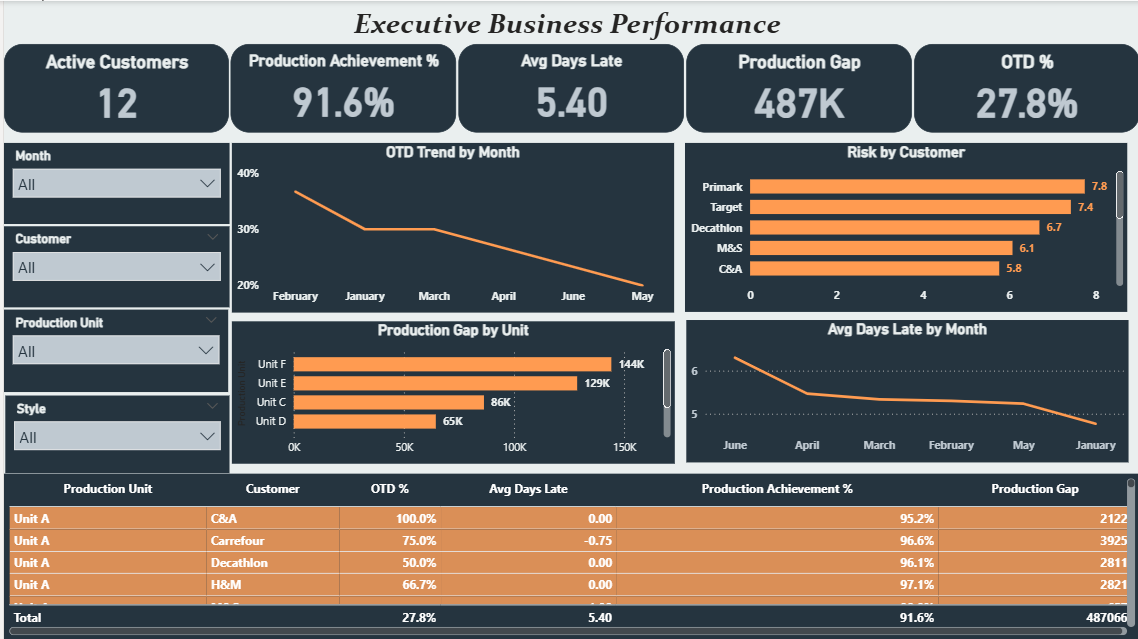

What the dashboard file says about the page in this screenshot:
{"tool":"powerbi","page":{"name":"Risk & Early Warning","canvas":[1280,720],"ordinal":5},"visuals":[{"type":"textbox","box":[248.7,0,781.3,51.7],"z":0},{"type":"card","title":"Active Customers","fields":{"Values":["Measurs.Active Customers"]},"box":[0,48,253.7,99.7],"z":1000},{"type":"card","title":"Production Achievement %","fields":{"Values":["Measurs.Production Achievement %"]},"box":[256,47.9,254,100],"z":2000},{"type":"card","title":"Avg Days Late","fields":{"Values":["Measurs.Avg Days Late"]},"box":[512.4,47.9,254,100],"z":3000},{"type":"card","title":"Production Gap","fields":{"Values":["Measurs.Production Gap"]},"box":[768.7,47.9,254,100],"z":4000},{"type":"card","title":"OTD %","fields":{"Values":["Measurs.OTD %"]},"box":[1025.1,47.9,254,100],"z":5000},{"type":"slicer","fields":{"Values":["Production_Data.Month Name"]},"box":[0,159.7,254,91.1],"z":6000},{"type":"slicer","fields":{"Values":["Production_Data.Customer"]},"box":[0,254,254,91.1],"z":7000},{"type":"slicer","fields":{"Values":["Production_Data.Production Unit"]},"box":[0,348.2,252.4,92.7],"z":8000},{"type":"clusteredBarChart","title":"Risk by Customer","fields":{"Y":["Measurs.Avg Days Late"],"Category":["Production_Data.Customer"]},"box":[768.1,160.3,498.7,190.8],"z":9000},{"type":"barChart","title":"Production Gap by Unit","fields":{"Category":["Production_Data.Production Unit"],"Y":["Measurs.Production Gap"]},"box":[256.2,360.4,499.3,160.4],"z":10000},{"type":"lineChart","title":"Avg Days Late by Month","fields":{"Category":["Production_Data.Month Name"],"Y":["Measurs.Avg Days Late"]},"box":[768.7,359.6,498.6,160.5],"z":11000},{"type":"lineChart","title":"OTD Trend by Month","fields":{"Y":["Measurs.OTD %"],"Category":["Production_Data.Month Name"]},"box":[256.2,160.5,498.6,191.4],"z":12000},{"type":"slicer","fields":{"Values":["Production_Data.Style"]},"box":[1.6,444.1,252.4,87.9],"z":13000},{"type":"tableEx","title":"Customer Performance Matrix","fields":{"Values":["Production_Data.Production Unit","Production_Data.Customer","Measurs.OTD %","Measurs.Avg Days Late","Measurs.Production Achievement %","Measurs.Production Gap"]},"box":[0,532.5,1279.6,186.8],"z":14000}]}

Visuals, with their boxes in screenshot pixels (x1, y1, x2, y2), scaled from the page's 1280x720 canvas onto the 1138x639 screenshot:
textbox: locate(221, 0, 916, 46)
"Active Customers" card: locate(0, 43, 226, 131)
"Production Achievement %" card: locate(228, 43, 453, 131)
"Avg Days Late" card: locate(456, 43, 681, 131)
"Production Gap" card: locate(683, 43, 909, 131)
"OTD %" card: locate(911, 43, 1137, 131)
slicer - Production_Data.Month Name: locate(0, 142, 226, 223)
slicer - Production_Data.Customer: locate(0, 225, 226, 306)
slicer - Production_Data.Production Unit: locate(0, 309, 224, 391)
"Risk by Customer" clusteredBarChart: locate(683, 142, 1126, 312)
"Production Gap by Unit" barChart: locate(228, 320, 672, 462)
"Avg Days Late by Month" lineChart: locate(683, 319, 1127, 462)
"OTD Trend by Month" lineChart: locate(228, 142, 671, 312)
slicer - Production_Data.Style: locate(1, 394, 226, 472)
"Customer Performance Matrix" tableEx: locate(0, 473, 1137, 638)
